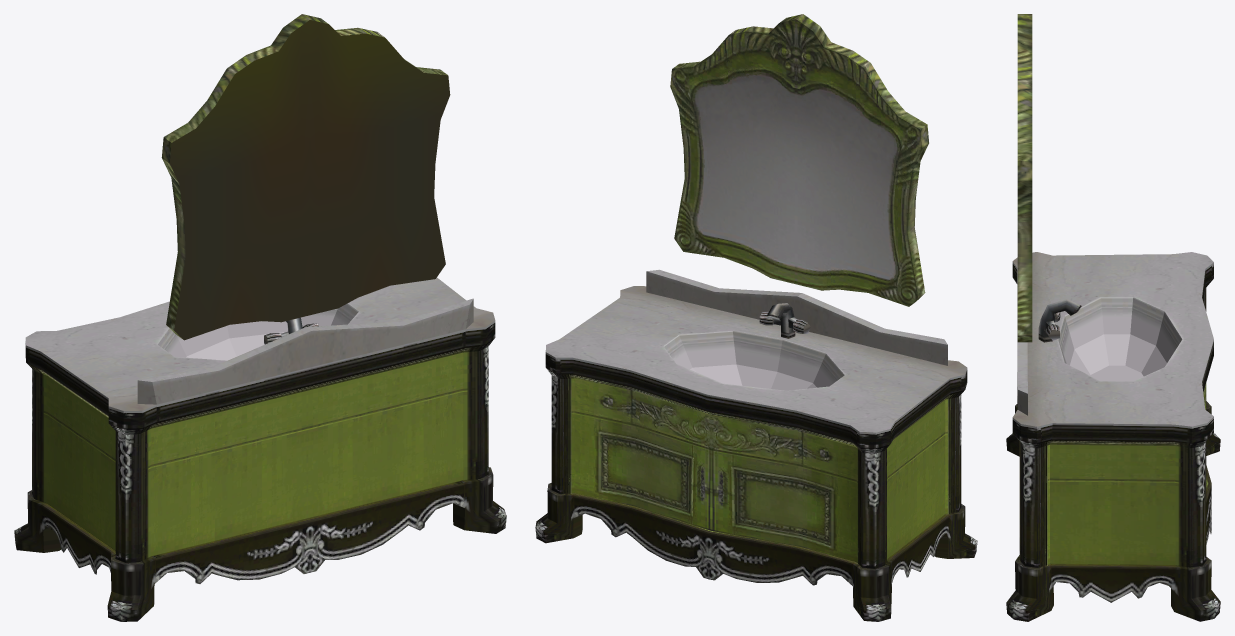
The model's file is furni_0201216_03.FBX.
The picture shows the model from 3 angles, left to right: view 1: azimuth 30°, elevation 25°; view 2: azimuth 150°, elevation 25°; view 3: azimuth 270°, elevation 25°; orthographic projection. The views are drawn at different scales.
Parts seen in each view (by area): view 1: furni_0201216_03; view 2: furni_0201216_03; view 3: furni_0201216_03.
Part boxes in pixels (x1,y1,x2,y2): furni_0201216_03: (14,14,506,621); furni_0201216_03: (535,14,977,621); furni_0201216_03: (1006,14,1220,621).
Size of the model in its own units: 161 by 215 by 80.67.
